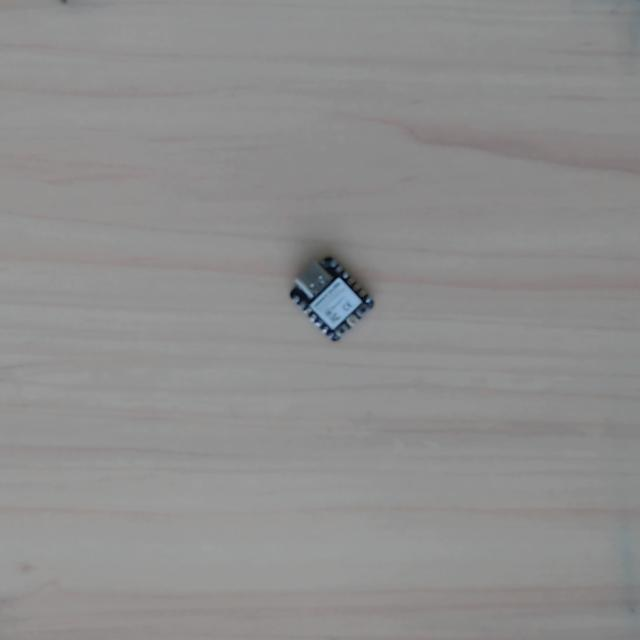ESP32C3-Xiao: (281, 248, 378, 345)
